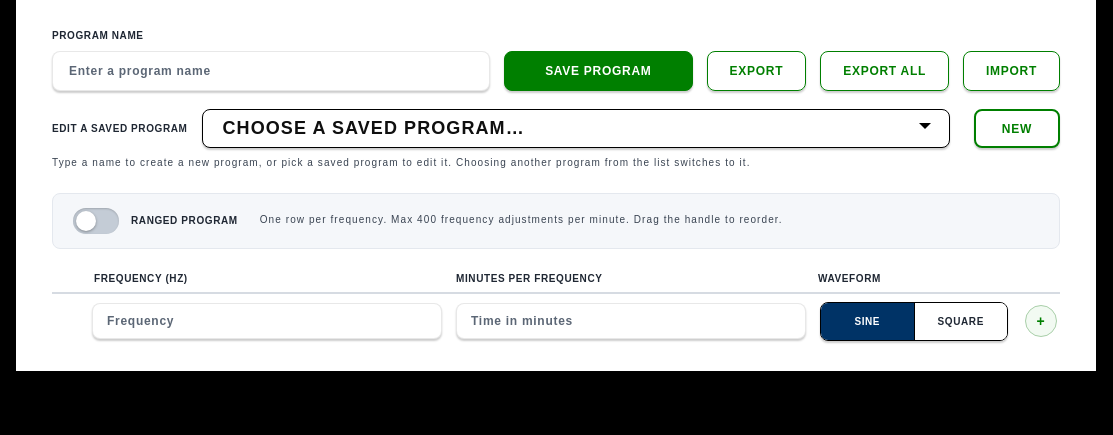
Test case: ProgramEditor › allows adding frequency rows in non-range mode
The width and height of the screenshot is (1113, 435).
Expected: the number of number fields with placeholder "Frequency" is 1, [92,303,442,339]
Click the add-frequency button
Click the button named "add frequency" at (1041,321), box [1025,305,1057,337]
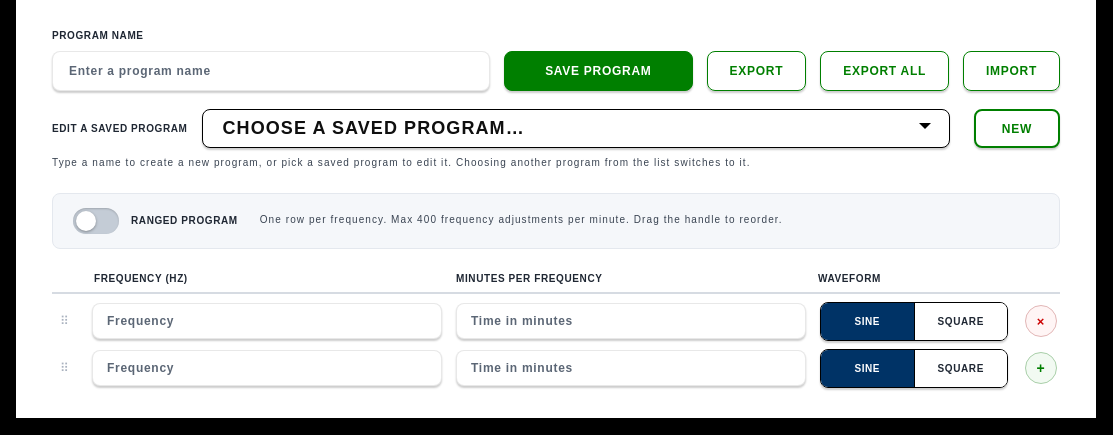
Expected: the number of number fields with placeholder "Frequency" is 2, [92,303,442,339]; [92,350,442,386]
